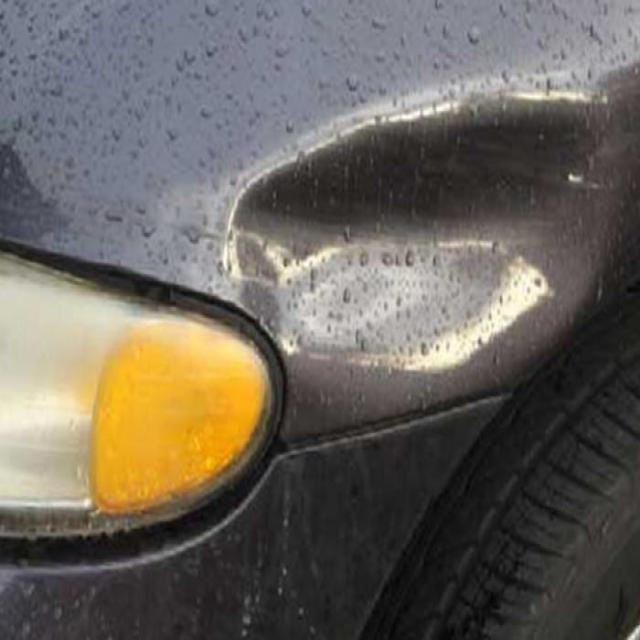dent: (222, 62, 630, 374)
